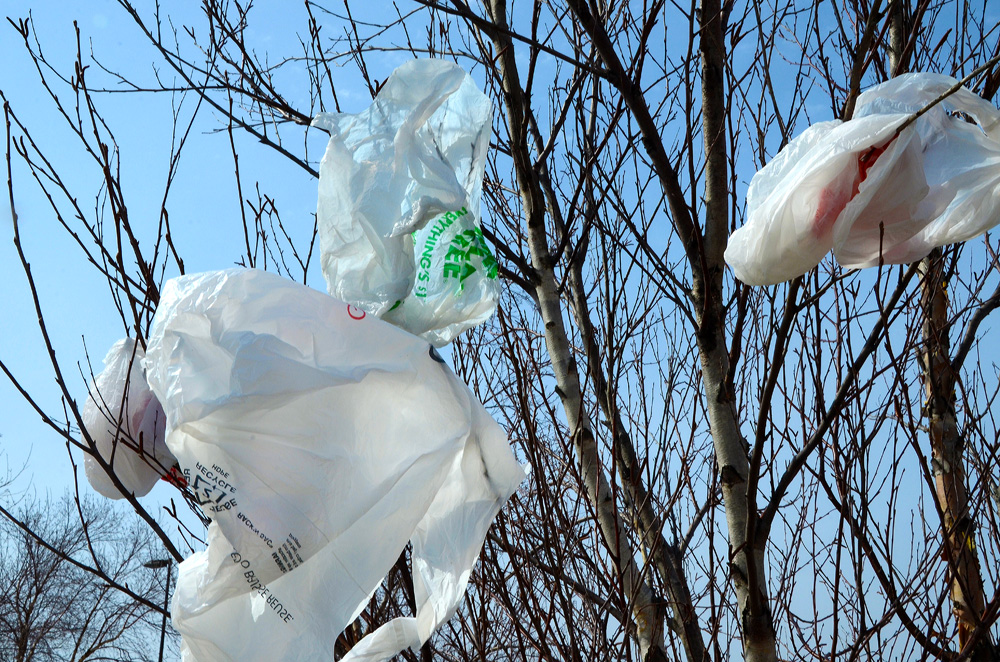plastic_bagwdw: (26, 252, 609, 662), (260, 45, 572, 422), (676, 45, 1000, 350)
